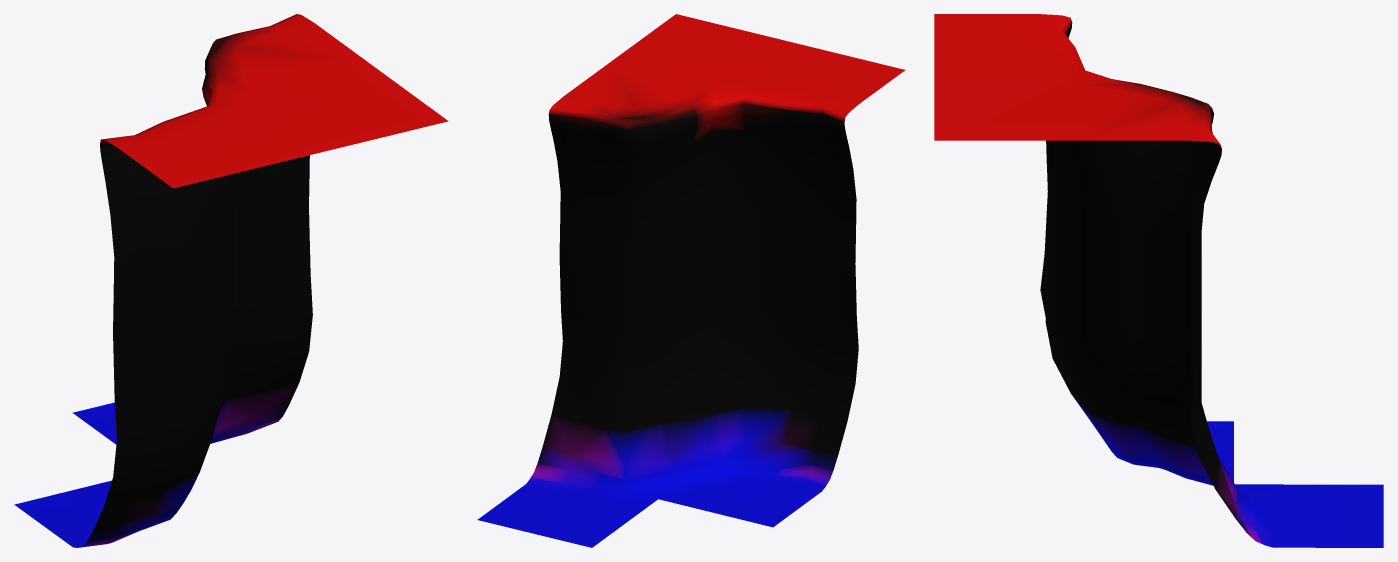
The model's file is GroundCliff05A 3M for Water Background.fbx.
3 views of the same model, side by side, from view 1: azimuth 30°, elevation 25°; view 2: azimuth 150°, elevation 25°; view 3: azimuth 270°, elevation 25° (orthographic). The views are drawn at different scales.
Visible parts, largest first — view 1: GroundCliff05A 3M for Water Background; view 2: GroundCliff05A 3M for Water Background; view 3: GroundCliff05A 3M for Water Background.
Part boxes in pixels (bbox=[...]): GroundCliff05A 3M for Water Background: bbox=[14, 14, 448, 547]; GroundCliff05A 3M for Water Background: bbox=[477, 14, 905, 547]; GroundCliff05A 3M for Water Background: bbox=[934, 14, 1383, 547].
Bounding box in the file's own units: 2 × 3 × 3.
